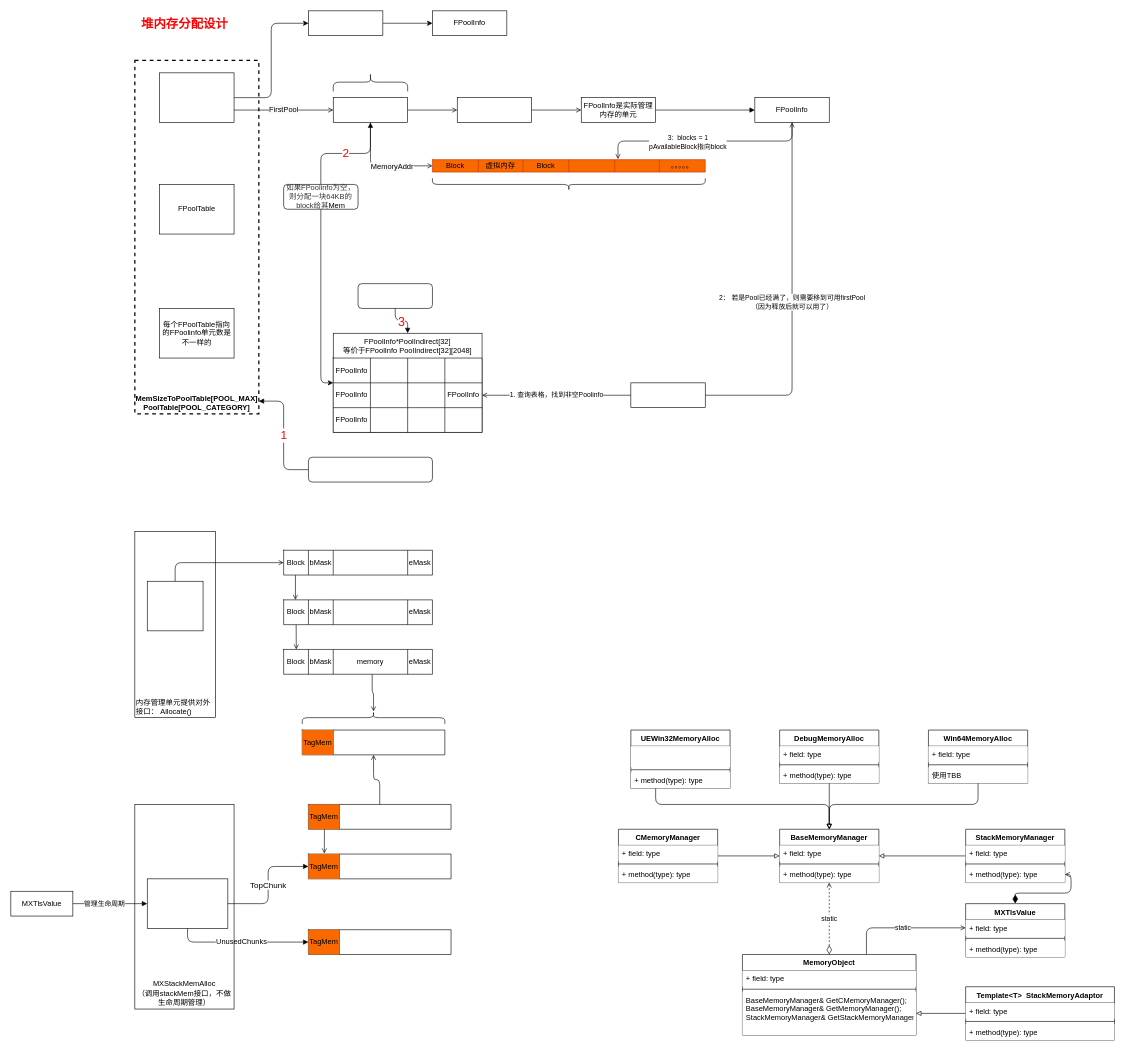
The diagram is 1125 pixels wide and 1053 high, and some of its shapes have lost their labels. The shapes that lost their labels are listed below. From the top down, each one's centre as x and y in pixels, then its label:
At (345,23): "FPoolInfo （ Exhausted）".
At (196,97): "FPoolTable (::BlockSize ）".
At (370,81): "内存中高16位".
At (370,109): "FPoolInfo （FirstPool）".
At (494,109): "FPoolInfo (size: 24KB)".
At (568,184): "block内地址，内存中低16位".
At (394,295): "将分配好的内存映射到Poolindirect二维数组的元素FPoolinfo".
At (667,395): "Deallocate".
At (370,469): "根据大小分配内存table，找到相应的Pooltable指向的FPoolInfo".
At (175,606): "Debug MemoryManager".
At (187,903): "MXStackMem".
